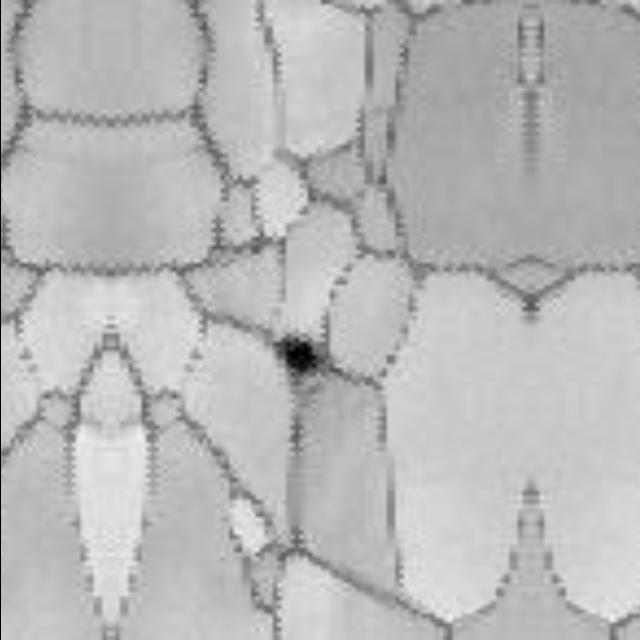good_void: (273, 333, 322, 379)
